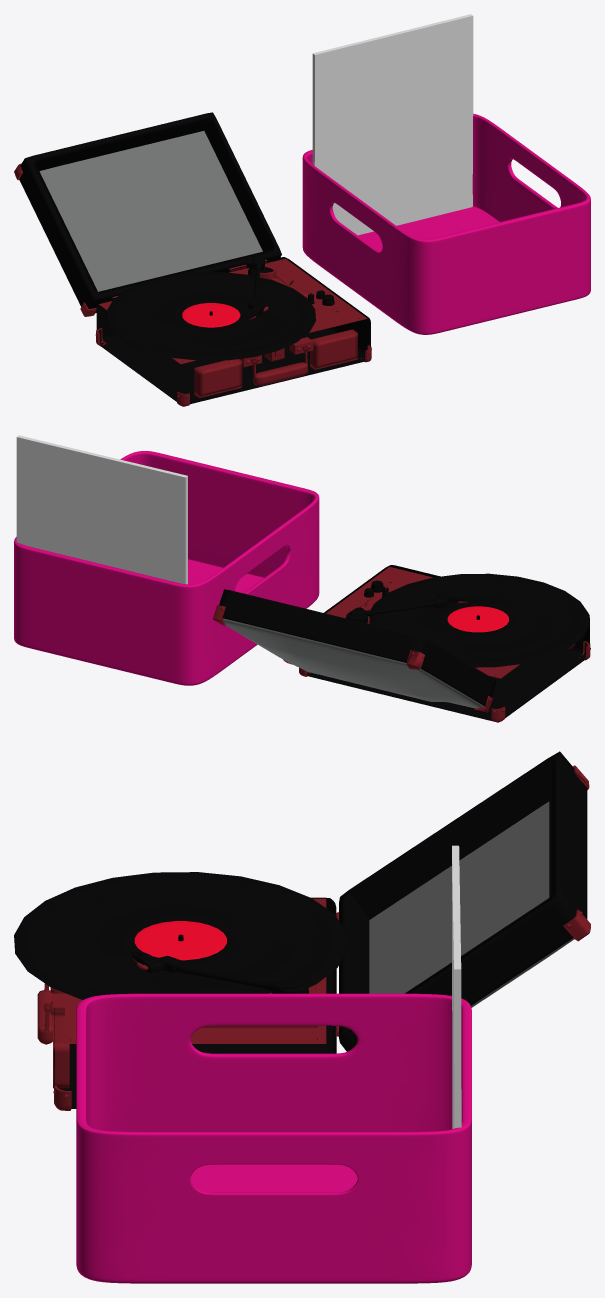
The picture shows the model from 3 angles, top to bottom: view 1: azimuth 30°, elevation 25°; view 2: azimuth 150°, elevation 25°; view 3: azimuth 270°, elevation 25°; orthographic projection. The views are drawn at different scales.
Visible parts, largest first — view 1: metal_storage_bin_mesh, Sleeve, top4, Record, top1, bottom, bottom_top, speaker1, speaker2, handle1, Tonearm; view 2: metal_storage_bin_mesh, Sleeve, Record, top1, top4, bottom, bottom_top, Tonearm; view 3: metal_storage_bin_mesh, Record, top1, top4, bottom_top, Sleeve, bottom, Tonearm, speaker2, handle1.
Part boxes in pixels (x1=…): metal_storage_bin_mesh: x1=302, y1=113, x2=590, y2=334; Sleeve: x1=312, y1=14, x2=473, y2=235; top4: x1=39, y1=131, x2=262, y2=291; Record: x1=106, y1=272, x2=315, y2=360; top1: x1=19, y1=112, x2=281, y2=313; bottom: x1=96, y1=257, x2=370, y2=404; bottom_top: x1=99, y1=258, x2=367, y2=364; speaker1: x1=194, y1=359, x2=242, y2=397; speaker2: x1=310, y1=329, x2=357, y2=369; handle1: x1=253, y1=362, x2=308, y2=385; Tonearm: x1=245, y1=255, x2=268, y2=318; metal_storage_bin_mesh: x1=14, y1=451, x2=319, y2=685; Sleeve: x1=16, y1=435, x2=187, y2=584; Record: x1=368, y1=573, x2=589, y2=667; top1: x1=219, y1=589, x2=496, y2=706; top4: x1=223, y1=618, x2=483, y2=708; bottom: x1=306, y1=565, x2=589, y2=720; bottom_top: x1=326, y1=567, x2=519, y2=678; Tonearm: x1=346, y1=592, x2=469, y2=623; metal_storage_bin_mesh: x1=76, y1=993, x2=471, y2=1283; Record: x1=14, y1=872, x2=346, y2=999; top1: x1=339, y1=751, x2=587, y2=1051; top4: x1=369, y1=801, x2=574, y2=1007; bottom_top: x1=65, y1=898, x2=326, y2=1043; Sleeve: x1=452, y1=845, x2=461, y2=1128; bottom: x1=54, y1=897, x2=336, y2=1108; Tonearm: x1=129, y1=951, x2=308, y2=993; speaker2: x1=53, y1=1013, x2=69, y2=1088; handle1: x1=37, y1=989, x2=52, y2=1044.
Bounding box in the file's own units: 0.8227 × 0.3518 × 0.5783.
